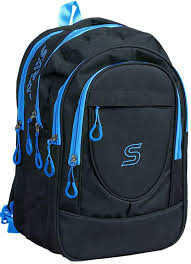bag: (7, 3, 187, 258)
